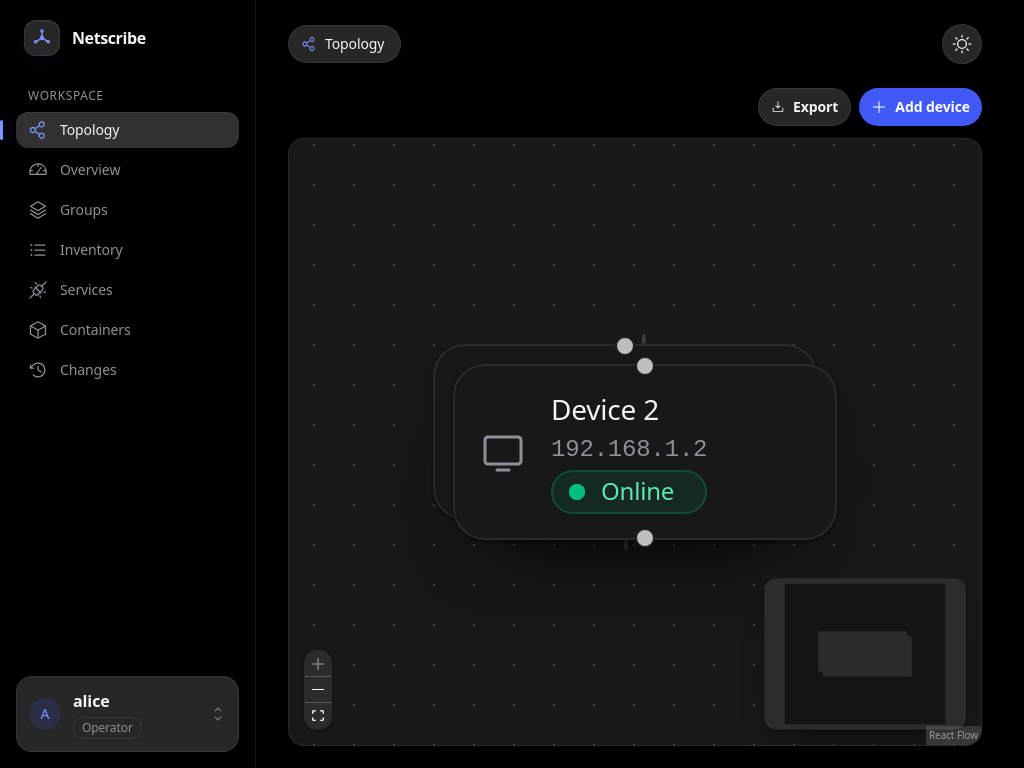
adding a device › sends the form and reloads the topology
Click the button "Add device".
click(921, 107)  # box [859,88,982,126]
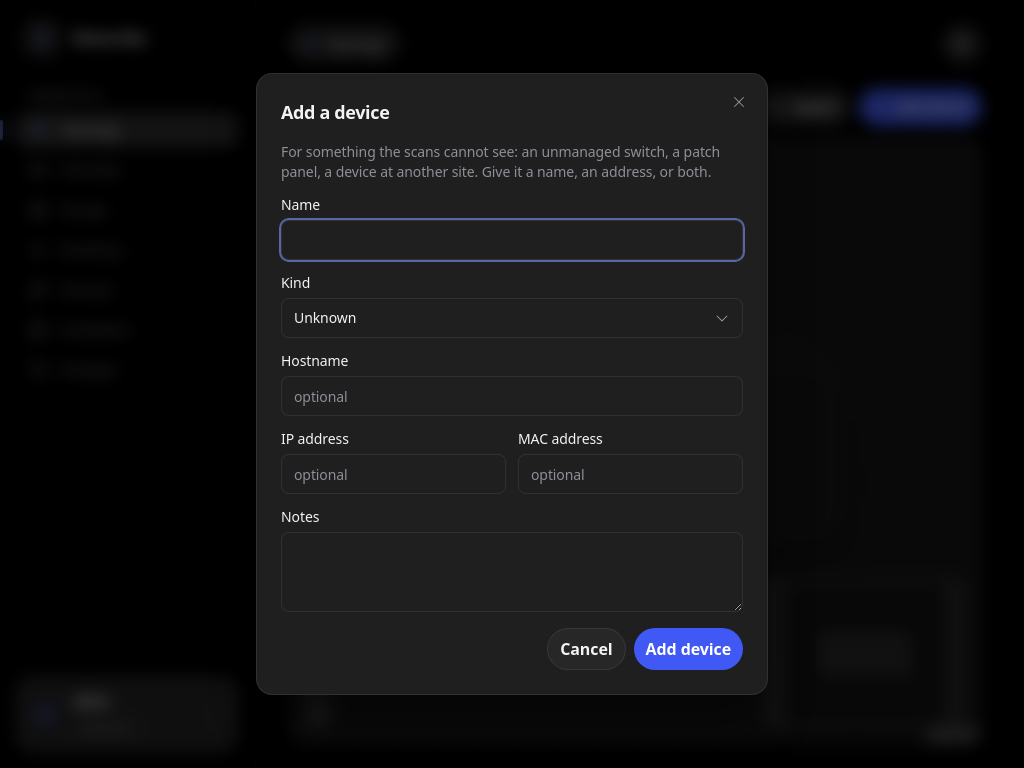
Type "Patch panel" into the field labelled "Name".
click(512, 240); type("Patch panel")  # box [281,220,743,260]
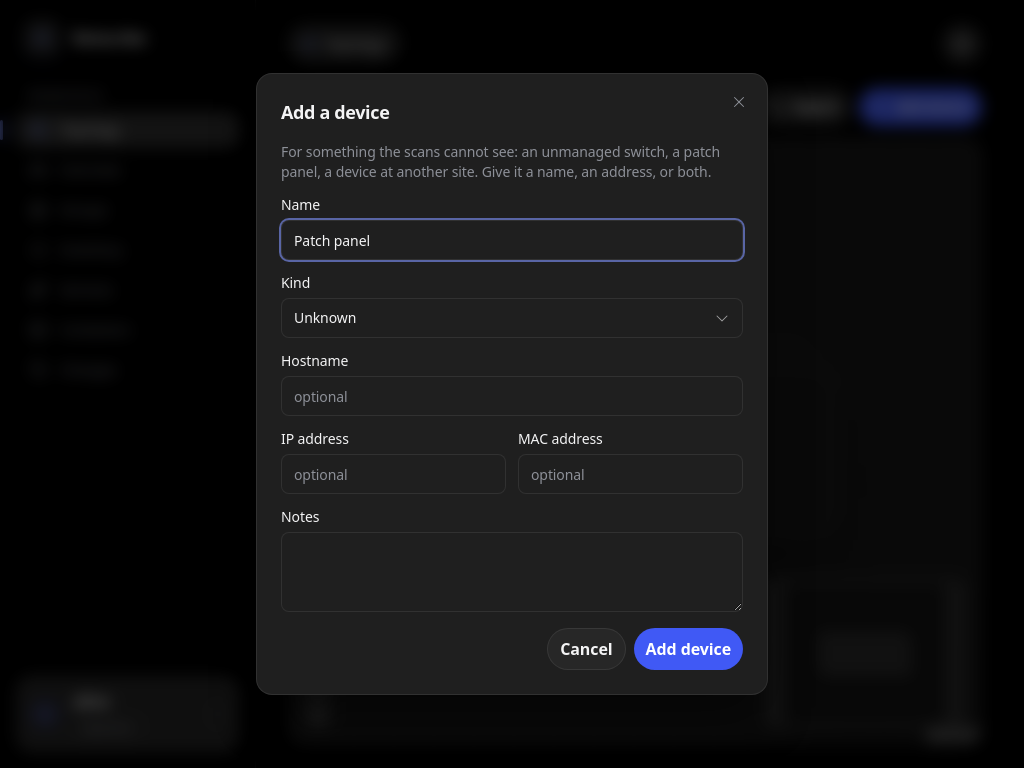
Type "192.168.1.9" into the field labelled "IP address".
click(394, 474); type("192.168.1.9")  # box [281,454,506,494]
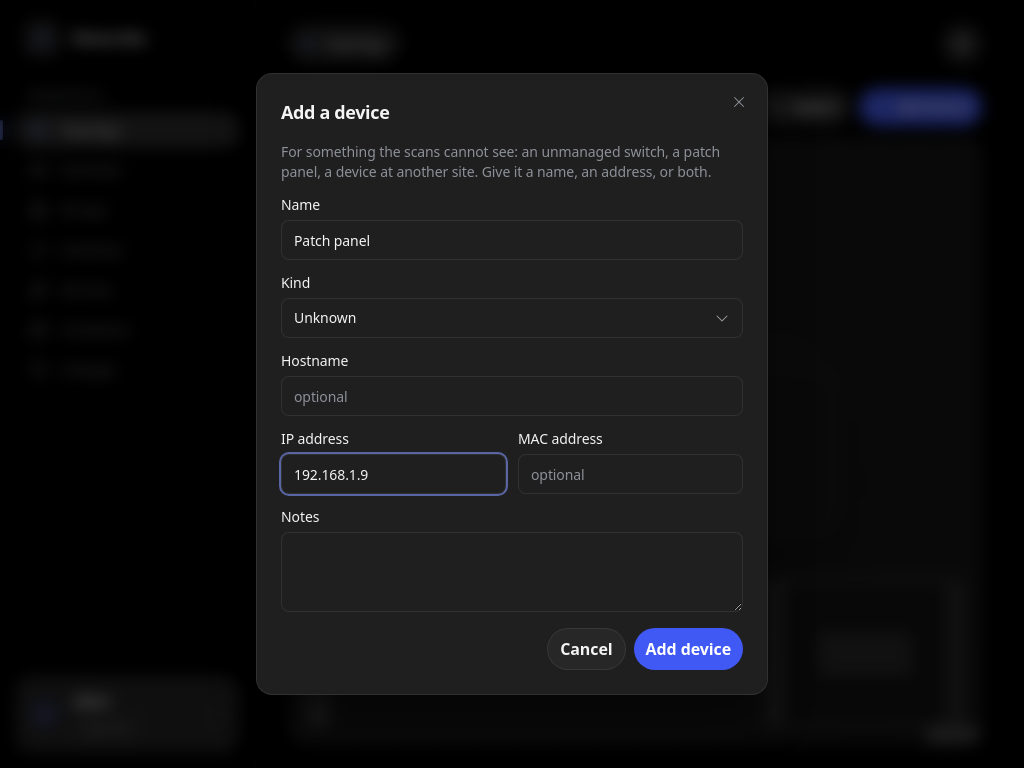
Click the button "Add device".
click(688, 649)  # box [634,628,743,670]
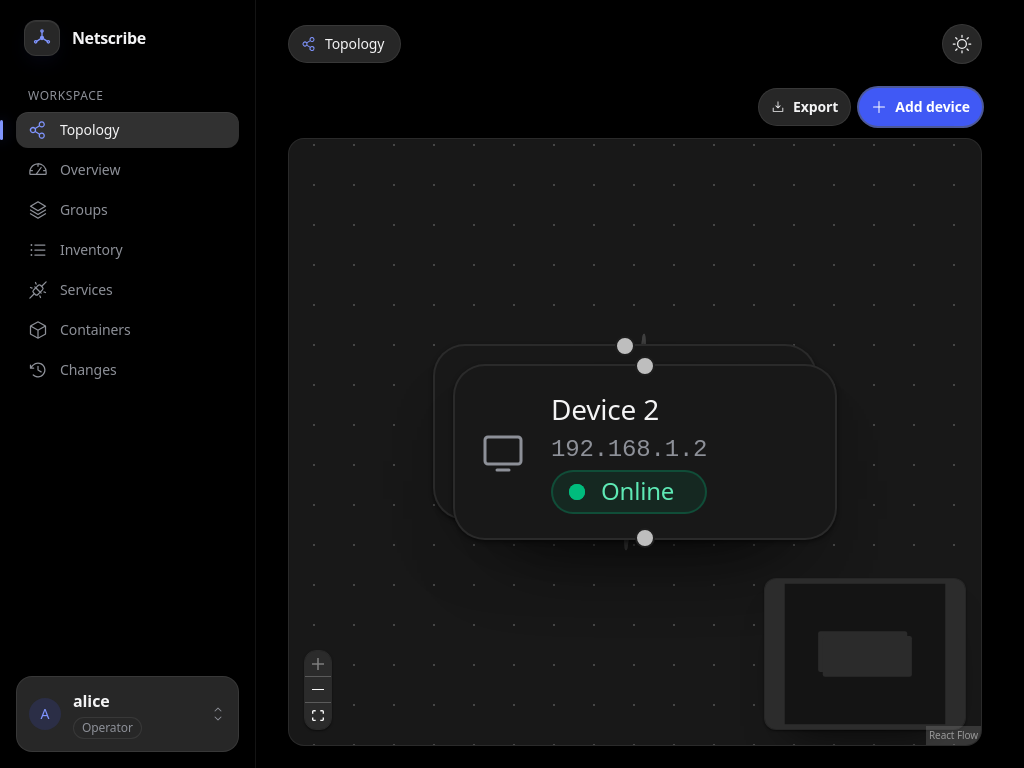
Now the dialog is gone
